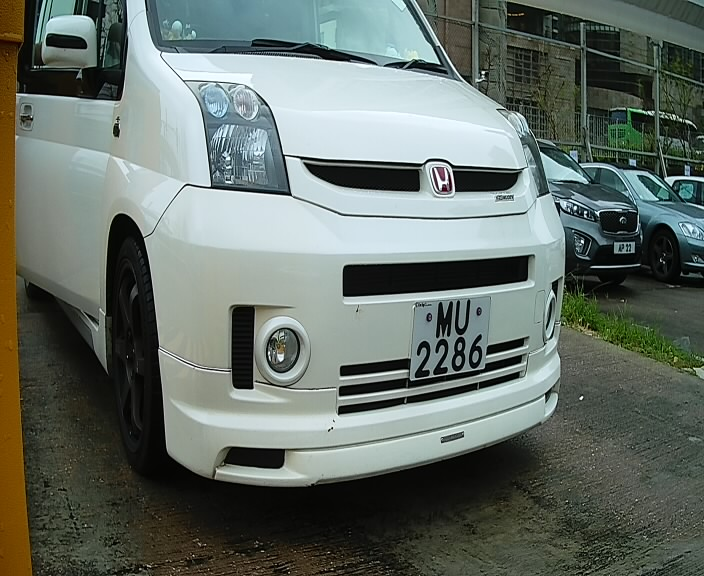License Plate: (399, 289, 504, 394)
